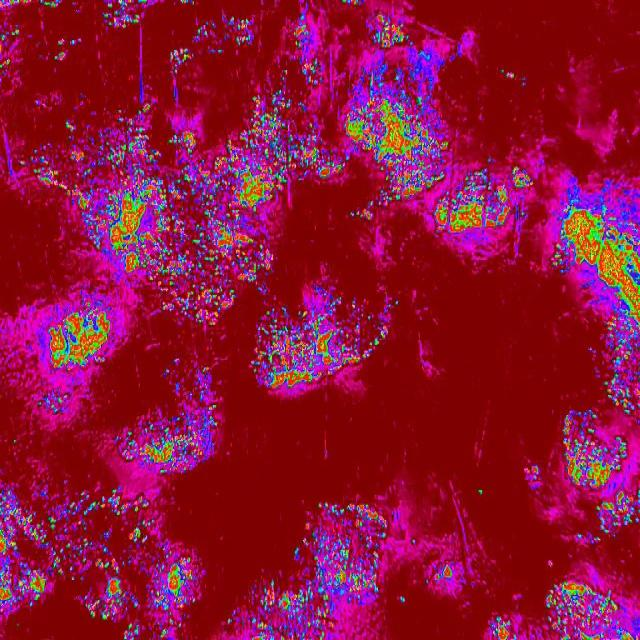fire: (85, 96, 273, 322), (0, 495, 205, 614), (341, 44, 452, 195), (249, 283, 399, 387), (293, 502, 392, 638), (558, 402, 640, 549), (112, 384, 223, 477), (562, 201, 640, 315), (432, 170, 538, 245), (273, 84, 339, 181), (34, 296, 121, 368), (547, 576, 640, 640), (236, 580, 292, 640), (603, 317, 640, 403), (486, 602, 522, 640)
